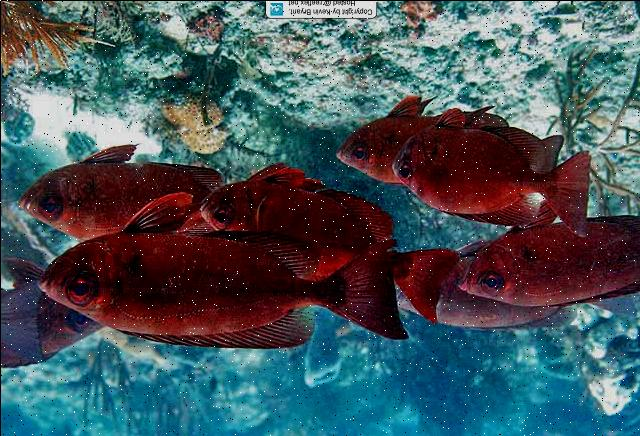Mulut: (27, 255, 63, 308), (444, 257, 476, 305), (12, 181, 40, 220), (323, 132, 352, 168), (384, 144, 406, 188), (190, 186, 214, 224)
Sirip Anal: (220, 220, 320, 284), (324, 177, 401, 251), (497, 120, 549, 176), (158, 156, 222, 192)
Sirip Ekor: (330, 237, 414, 349), (399, 231, 459, 325), (540, 148, 596, 240)
Sirip Perut: (120, 182, 196, 236), (436, 90, 494, 130), (384, 88, 441, 125), (76, 138, 140, 166)
Sirip Punggung: (143, 304, 319, 368), (448, 193, 540, 235)
